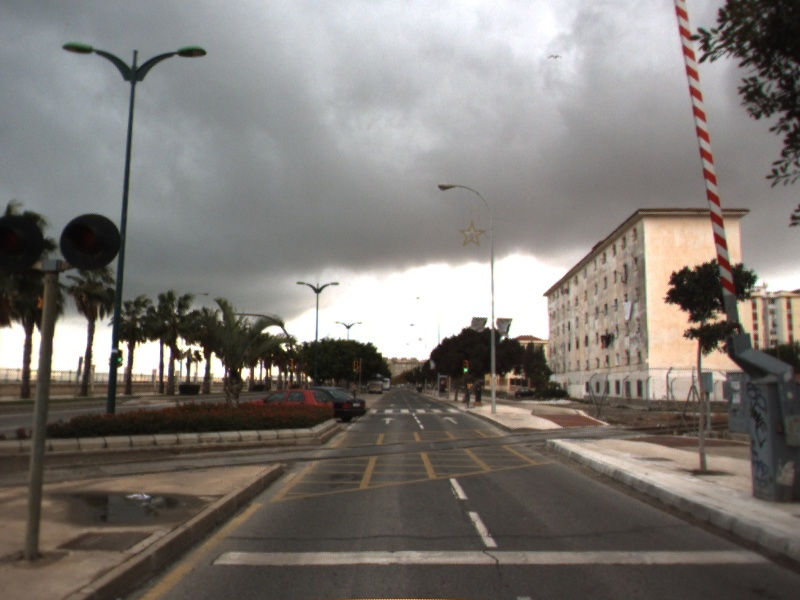STRAIGHT: (441, 415, 460, 426), (380, 415, 397, 426)
